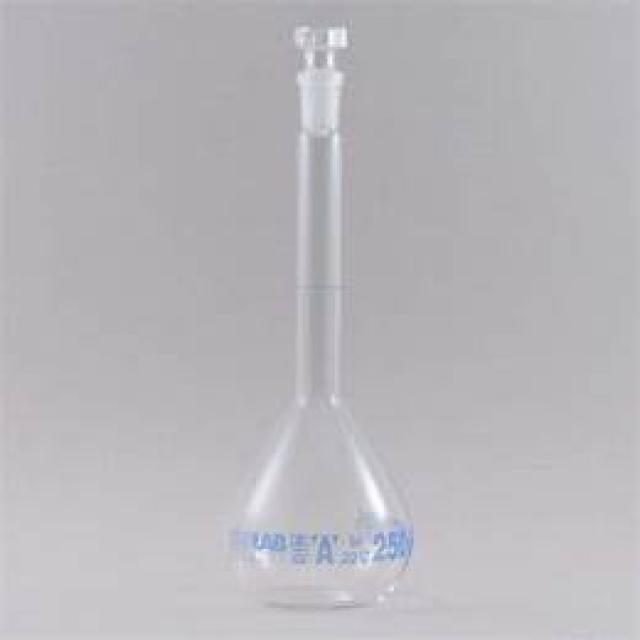Volumetric flask: (226, 21, 421, 606)
